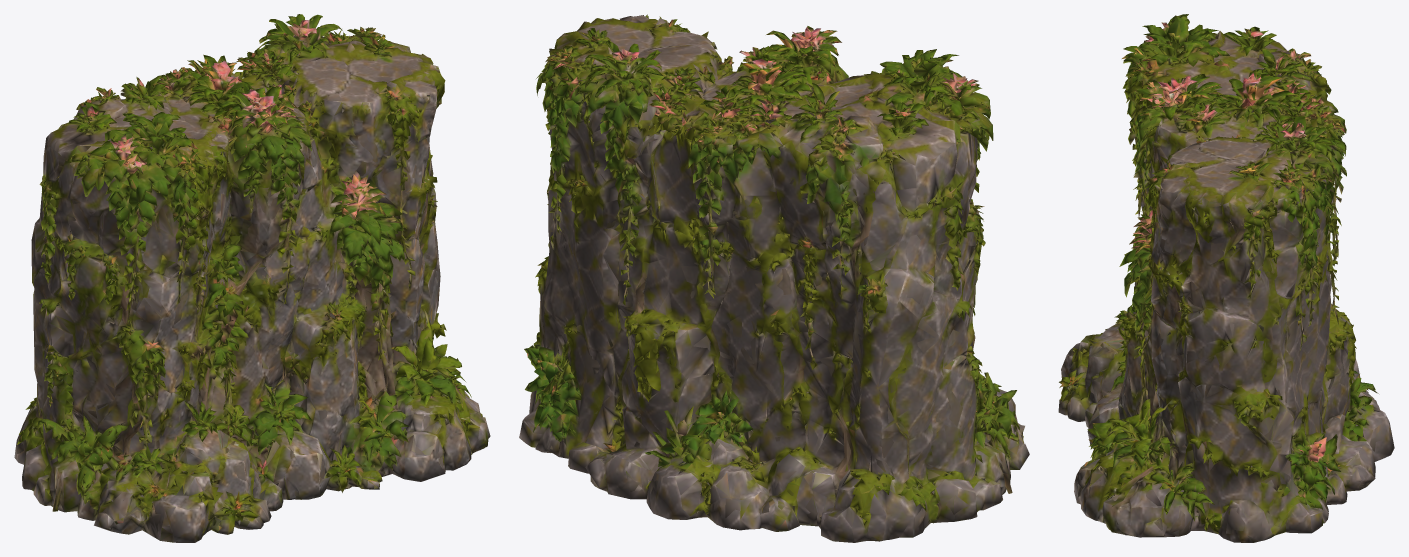
The model's file is cliff_garden.glb.
The picture shows the model from 3 angles, left to right: view 1: azimuth 30°, elevation 25°; view 2: azimuth 150°, elevation 25°; view 3: azimuth 270°, elevation 25°; orthographic projection. The views are drawn at different scales.
Parts seen in each view (by area): view 1: Mesh_0; view 2: Mesh_0; view 3: Mesh_0.
Boxes of the visible parts, x1=… form: Mesh_0: x1=14, y1=14, x2=490, y2=542; Mesh_0: x1=519, y1=14, x2=1029, y2=542; Mesh_0: x1=1058, y1=14, x2=1394, y2=542.
Bounding box in the file's own units: 1.9 × 1.64 × 1.36.
Materials: 1 (1 with a texture image).
